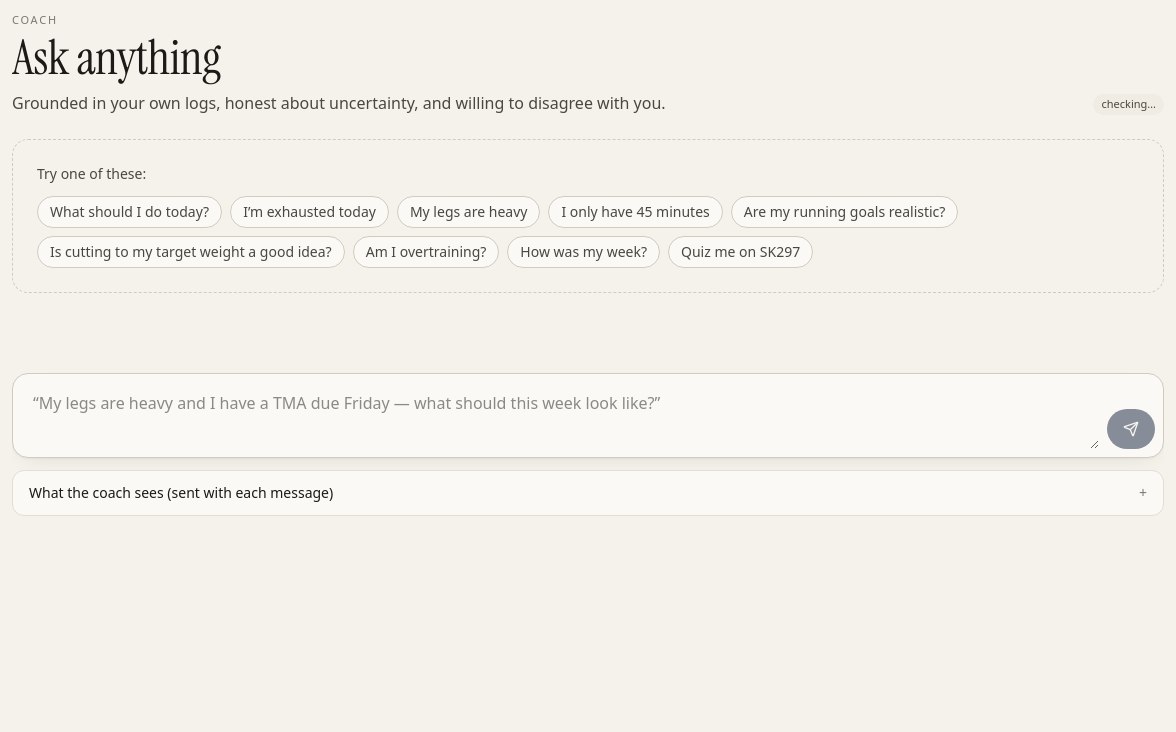
interactions › the offline coach answers without a network
Replace the text in the text box with placeholder "legs are heavy" with "What are my paces?": coordinates (560, 415) 21,382 -> 1099,449
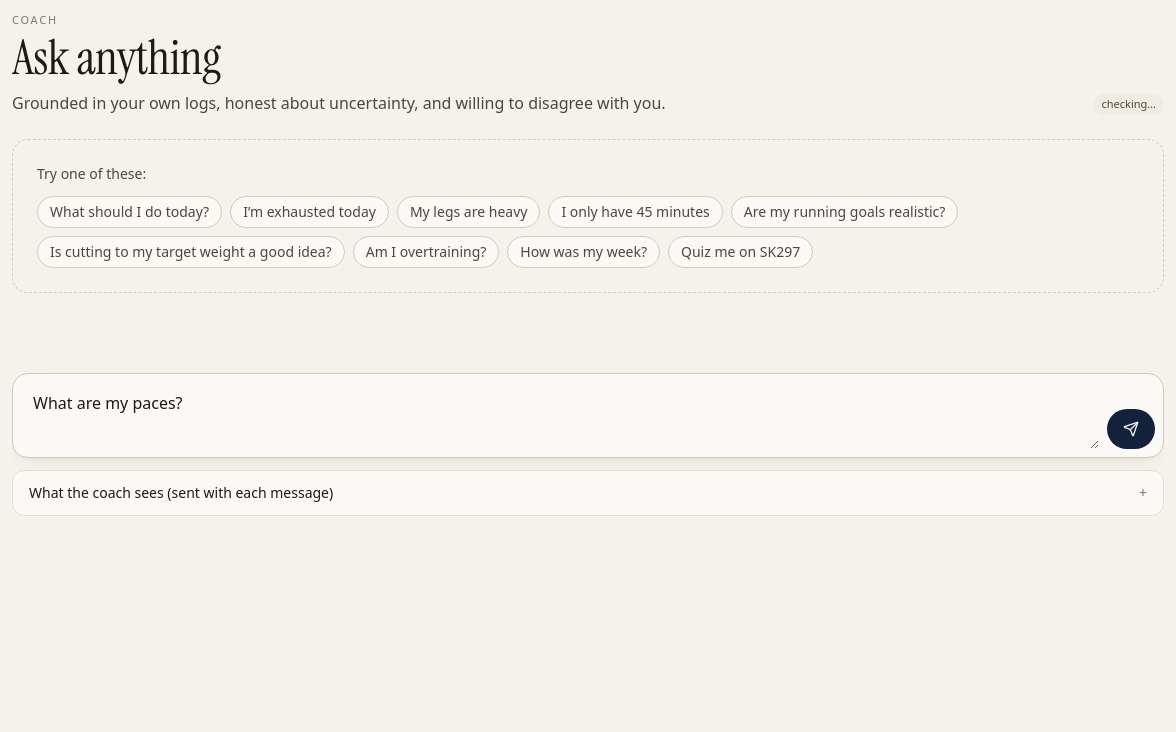
Click the button named "Send": coordinates (1131, 429) 1107,409 -> 1155,449
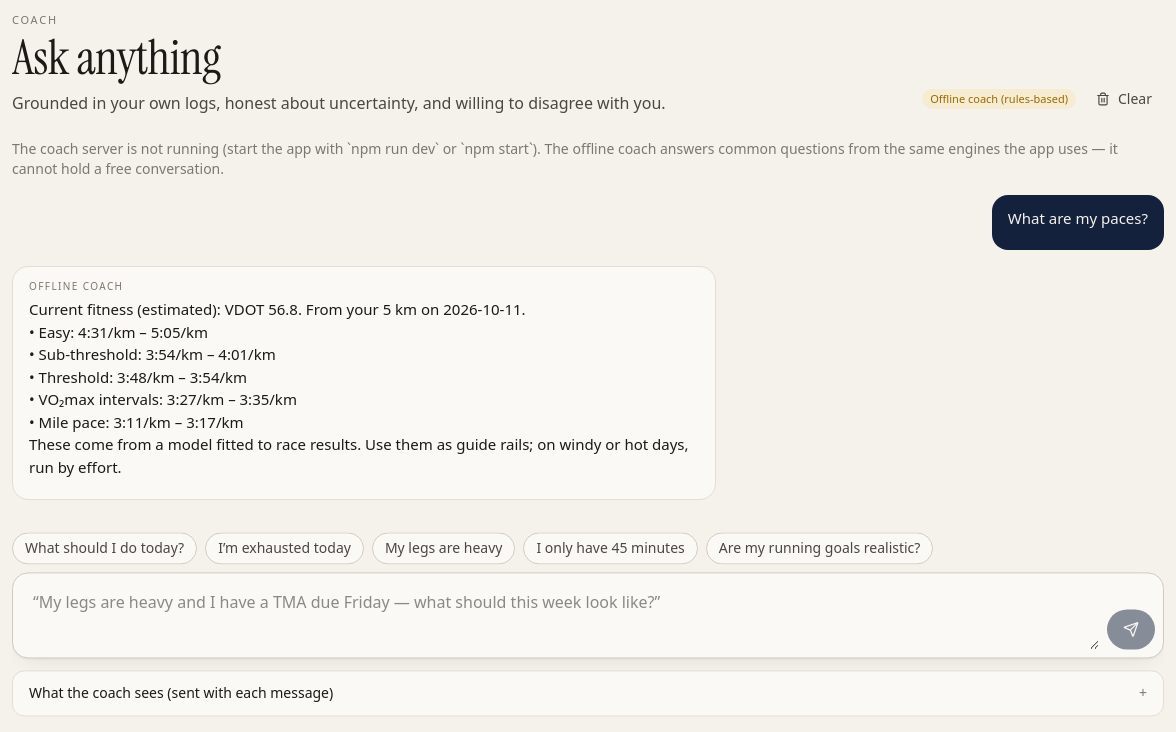
expect the text "• Threshold: 3:48/km – 3:54/km" is shown: met, box 29,367 -> 247,387
